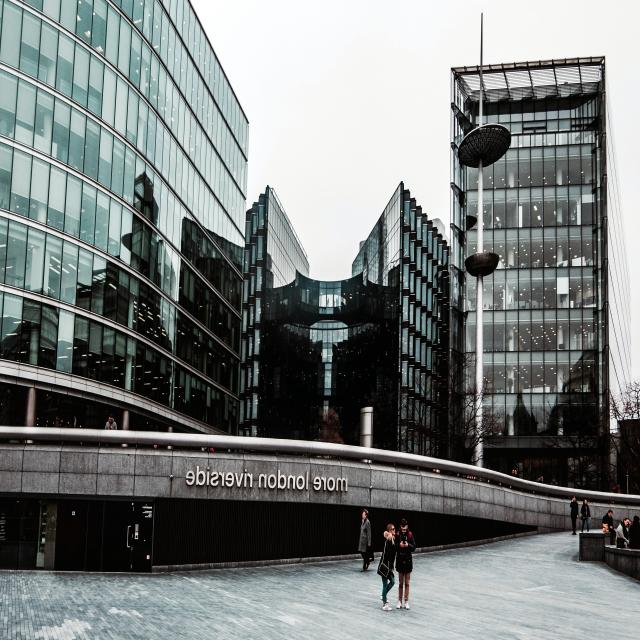adult: (396, 518, 416, 610), (377, 524, 396, 610), (358, 509, 371, 571), (602, 509, 616, 545), (616, 517, 630, 547), (580, 499, 590, 532), (570, 496, 578, 535)
